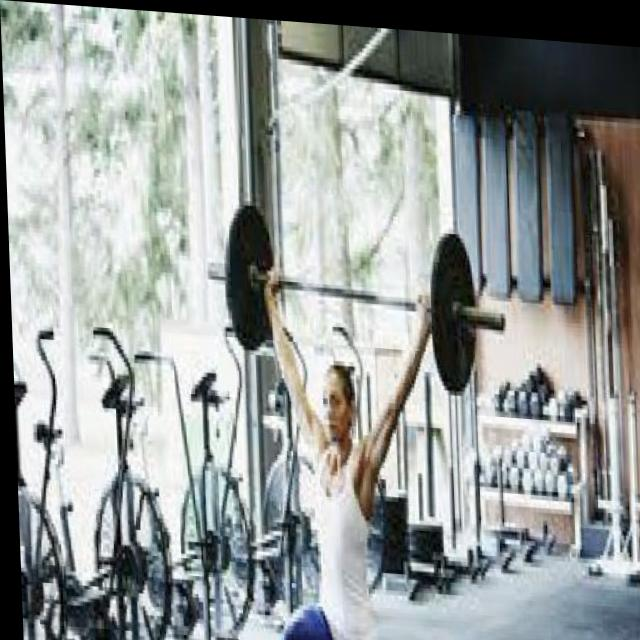barbell: (424, 222, 513, 396)
